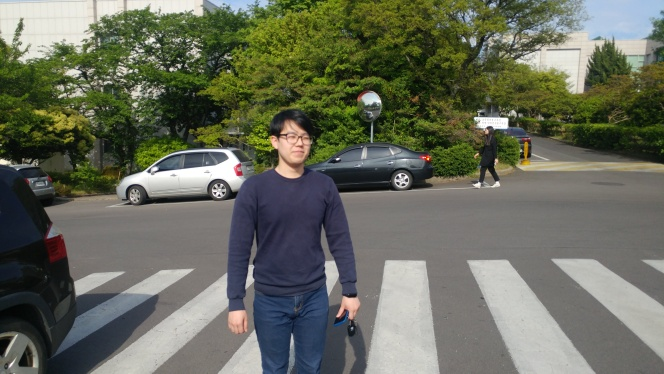KMG: (229, 107, 369, 374), (267, 104, 323, 175)
